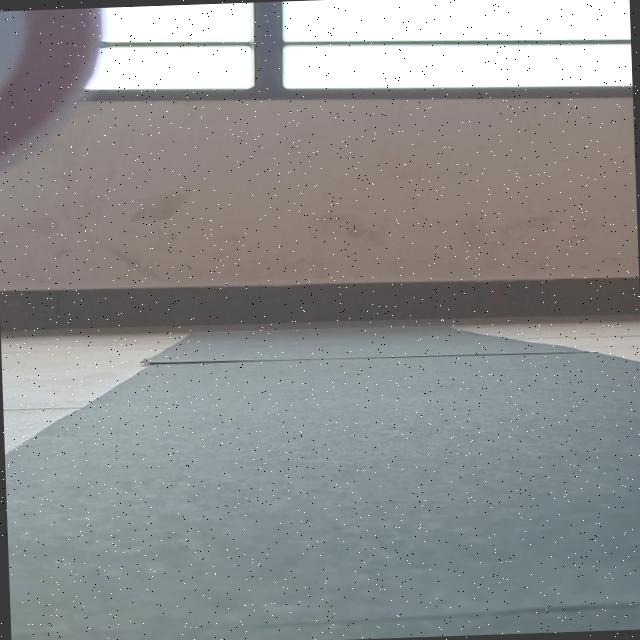Reject: (0, 6, 131, 218)
